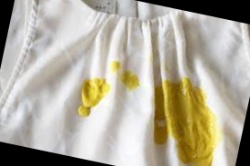mustard: (139, 72, 215, 165), (172, 107, 221, 166), (75, 74, 109, 123), (119, 65, 140, 89), (110, 59, 124, 74)
